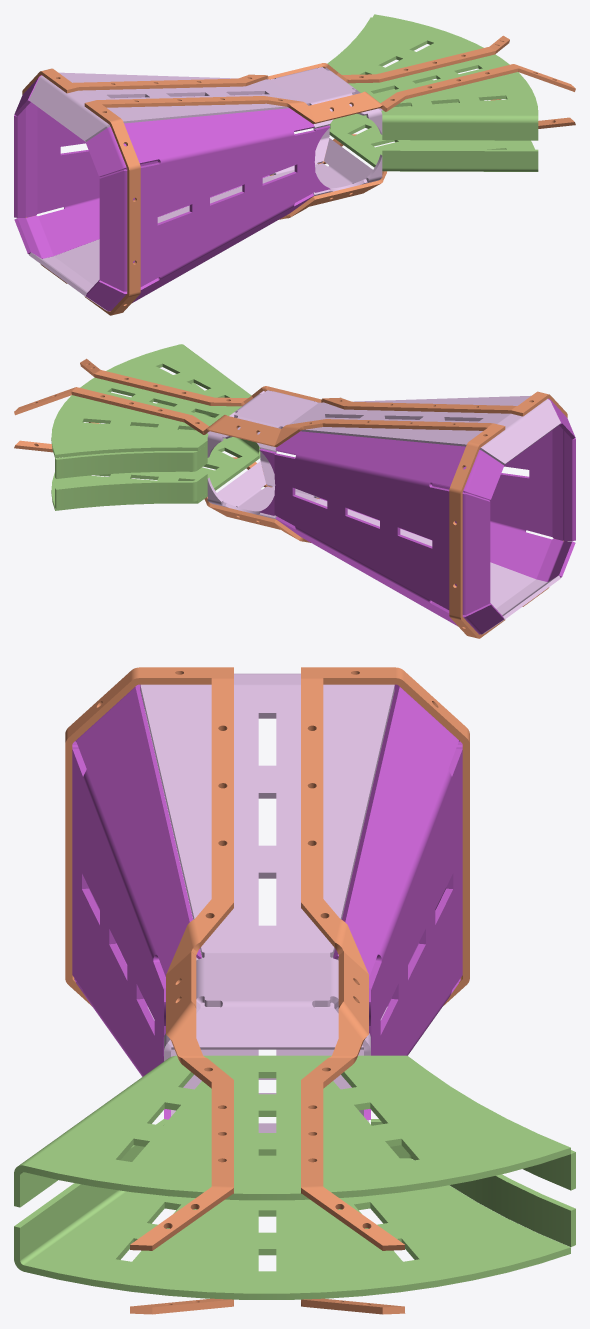
Rendered from Stormbreaker_outside.gltf.
3 views of the same model, one above another, from view 1: azimuth 30°, elevation 25°; view 2: azimuth 150°, elevation 25°; view 3: azimuth 270°, elevation 25° (orthographic). The views are drawn at different scales.
Visible parts, largest first — view 1: Part 16, Part 18, Part 15, Part 17, Part 26, Part 24, Part 14, Part 27, Part 28; view 2: Part 15, Part 18, Part 16, Part 17, Part 27, Part 14, Part 26, Part 24, Part 25, Part 19, Part 29; view 3: Part 17, Part 18, Part 24, Part 16, Part 15, Part 27, Part 26, Part 25, Part 29, Part 28, Part 14, Part 19.
Part boxes in pixels (x1,y1,x2,y2): Part 16: [85, 108, 330, 311]; Part 18: [327, 14, 538, 140]; Part 15: [14, 75, 269, 258]; Part 17: [29, 67, 382, 141]; Part 26: [84, 64, 575, 232]; Part 24: [329, 79, 538, 171]; Part 14: [29, 125, 382, 311]; Part 27: [22, 35, 509, 94]; Part 28: [84, 117, 575, 315]; Part 15: [259, 431, 503, 634]; Part 18: [51, 344, 251, 458]; Part 16: [319, 398, 575, 581]; Part 17: [207, 390, 560, 464]; Part 27: [14, 387, 505, 555]; Part 14: [207, 448, 560, 634]; Part 26: [80, 358, 567, 417]; Part 24: [51, 382, 260, 510]; Part 25: [55, 473, 207, 508]; Part 19: [55, 444, 207, 478]; Part 29: [14, 440, 505, 638]; Part 17: [140, 673, 394, 1061]; Part 18: [14, 1055, 570, 1207]; Part 24: [14, 1119, 570, 1299]; Part 16: [72, 684, 201, 1119]; Part 15: [333, 684, 462, 1119]; Part 27: [301, 667, 469, 1250]; Part 26: [65, 667, 233, 1250]; Part 25: [371, 1119, 575, 1246]; Part 29: [301, 861, 469, 1314]; Part 28: [65, 861, 233, 1314]; Part 14: [147, 1002, 387, 1132]; Part 19: [523, 1150, 575, 1190].
Bounding box in the file's own units: 0.3004 × 0.115 × 0.1597.
